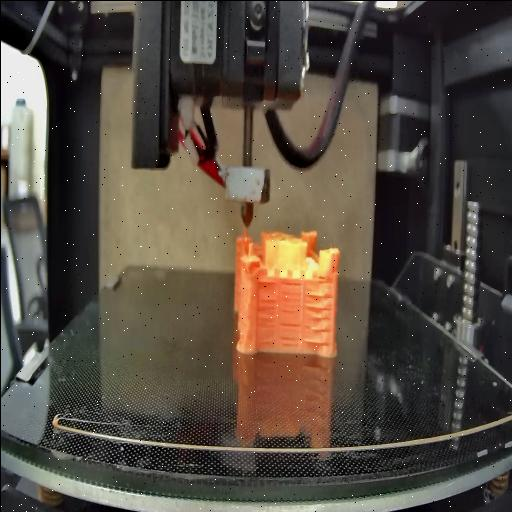cracks: (301, 290, 333, 346), (278, 293, 298, 344), (256, 295, 276, 345), (279, 277, 299, 287), (256, 278, 274, 286)
